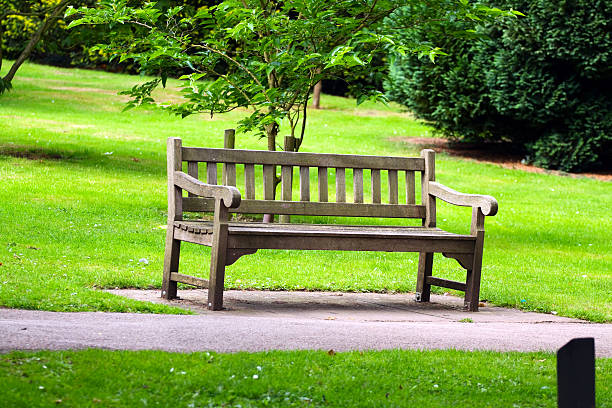Bench: (160, 136, 498, 312)
